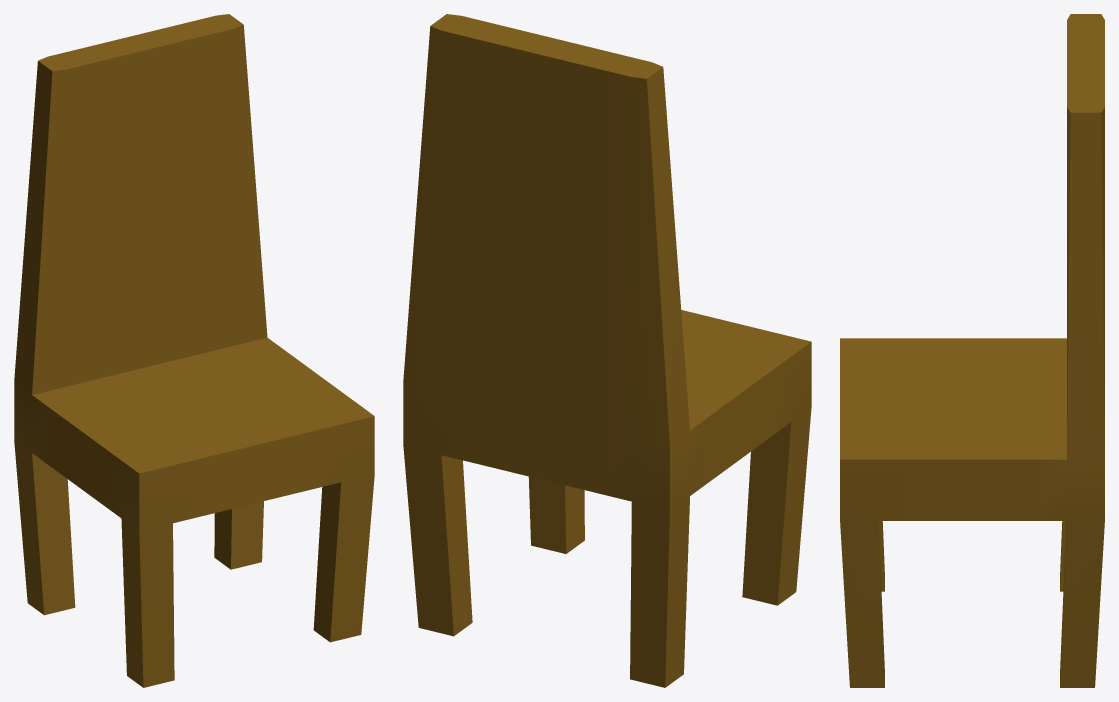
File: chair.fbx
3 renders of one model, left to right at view 1: azimuth 30°, elevation 25°; view 2: azimuth 150°, elevation 25°; view 3: azimuth 270°, elevation 25°, orthographic. The views are drawn at different scales.
Visible parts, largest first — view 1: pCube1; view 2: pCube1; view 3: pCube1.
Boxes of the visible parts, x1,y1,x2,y2 form: pCube1: (14,14,374,687); pCube1: (403,14,811,687); pCube1: (840,14,1104,687).
Size of the model in its own units: 245 by 533 by 225.
